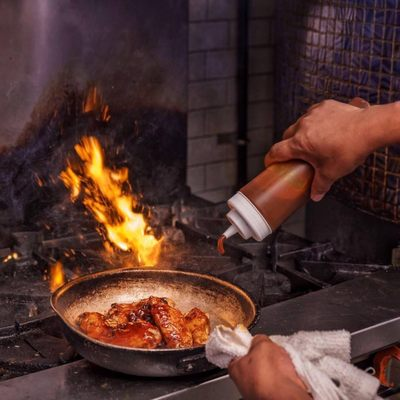sandwich: (75, 296, 211, 350)
